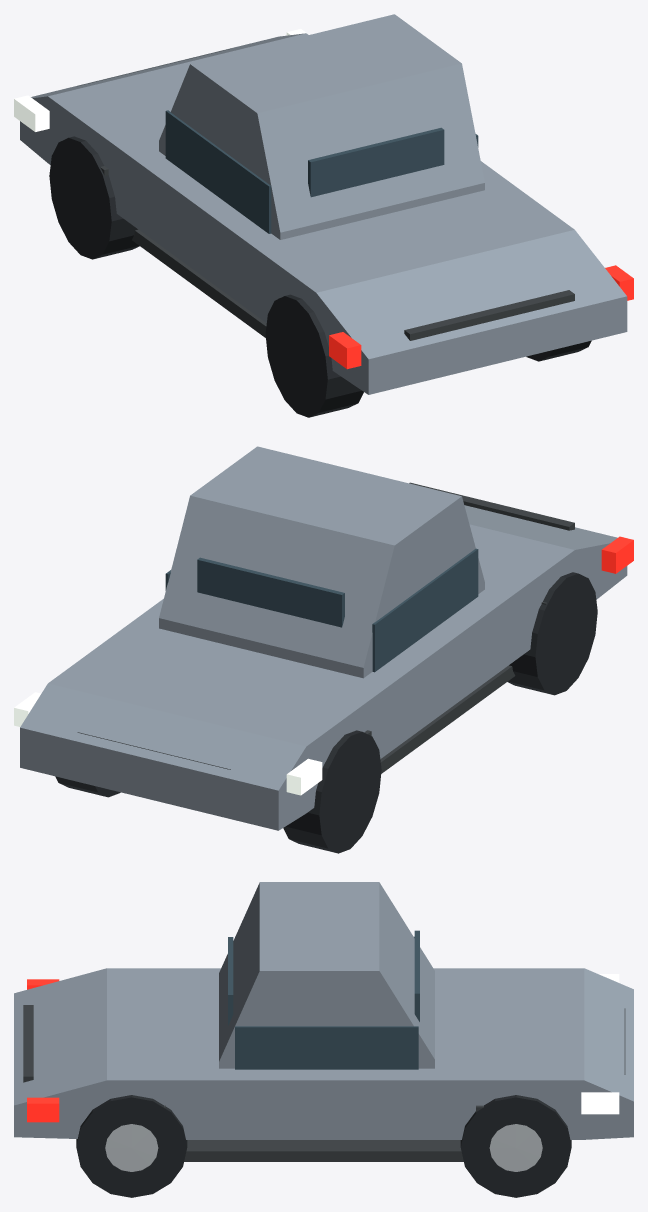
The model's file is ford-everest-titanium.glb.
The picture shows the model from 3 angles, top to bottom: view 1: azimuth 30°, elevation 25°; view 2: azimuth 150°, elevation 25°; view 3: azimuth 270°, elevation 25°; orthographic projection. The views are drawn at different scales.
Visible parts, largest first — view 1: ford-everest-titanium illustrative model; view 2: ford-everest-titanium illustrative model; view 3: ford-everest-titanium illustrative model.
Part boxes in pixels (x1,y1,x2,y2): ford-everest-titanium illustrative model: (14, 14, 633, 417); ford-everest-titanium illustrative model: (14, 446, 633, 853); ford-everest-titanium illustrative model: (14, 882, 633, 1197).
Size of the model in its own units: 2.02 by 1.61 by 4.25.
